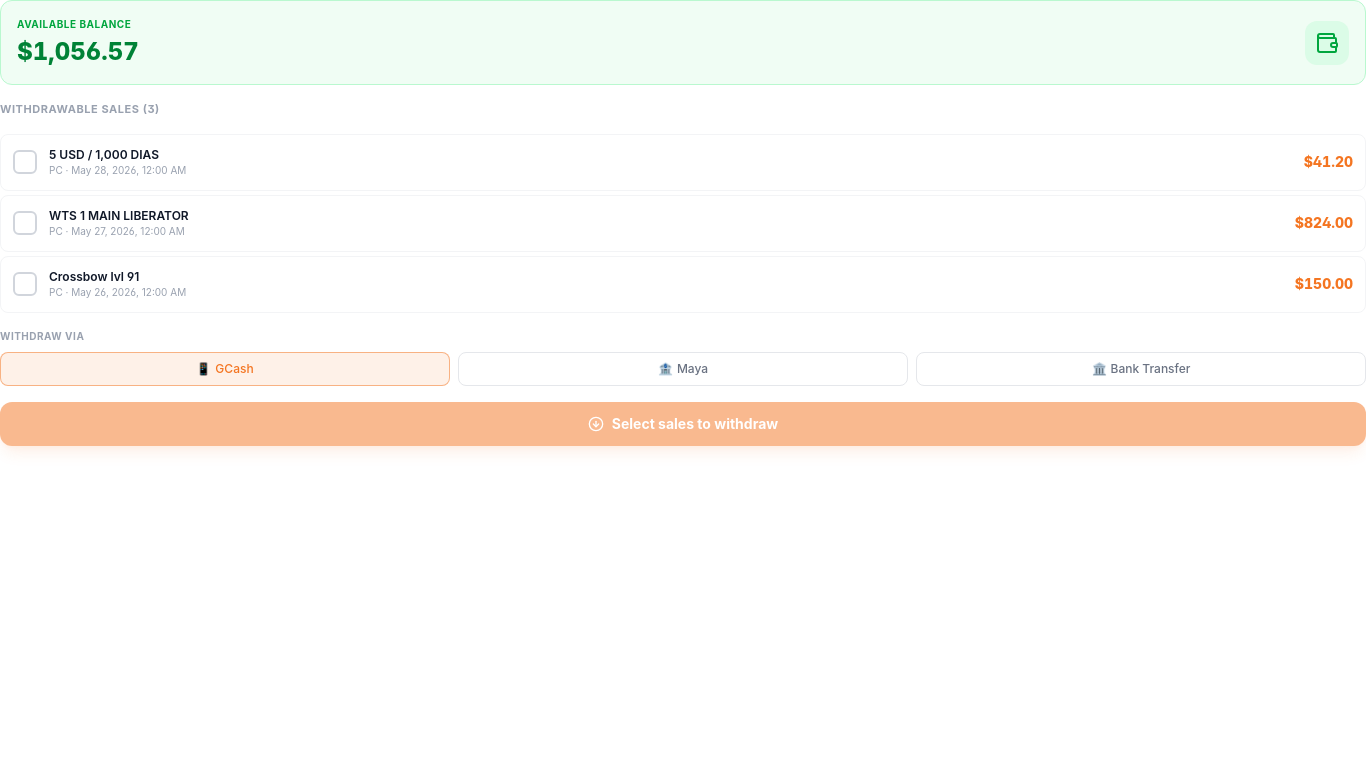
Test: WithdrawalPanel › cancel button closes confirmation modal
The image size is (1366, 768).
Click the button "5 USD / 1,000 DIAS".
click(104, 154)  # box [0,134,1365,190]
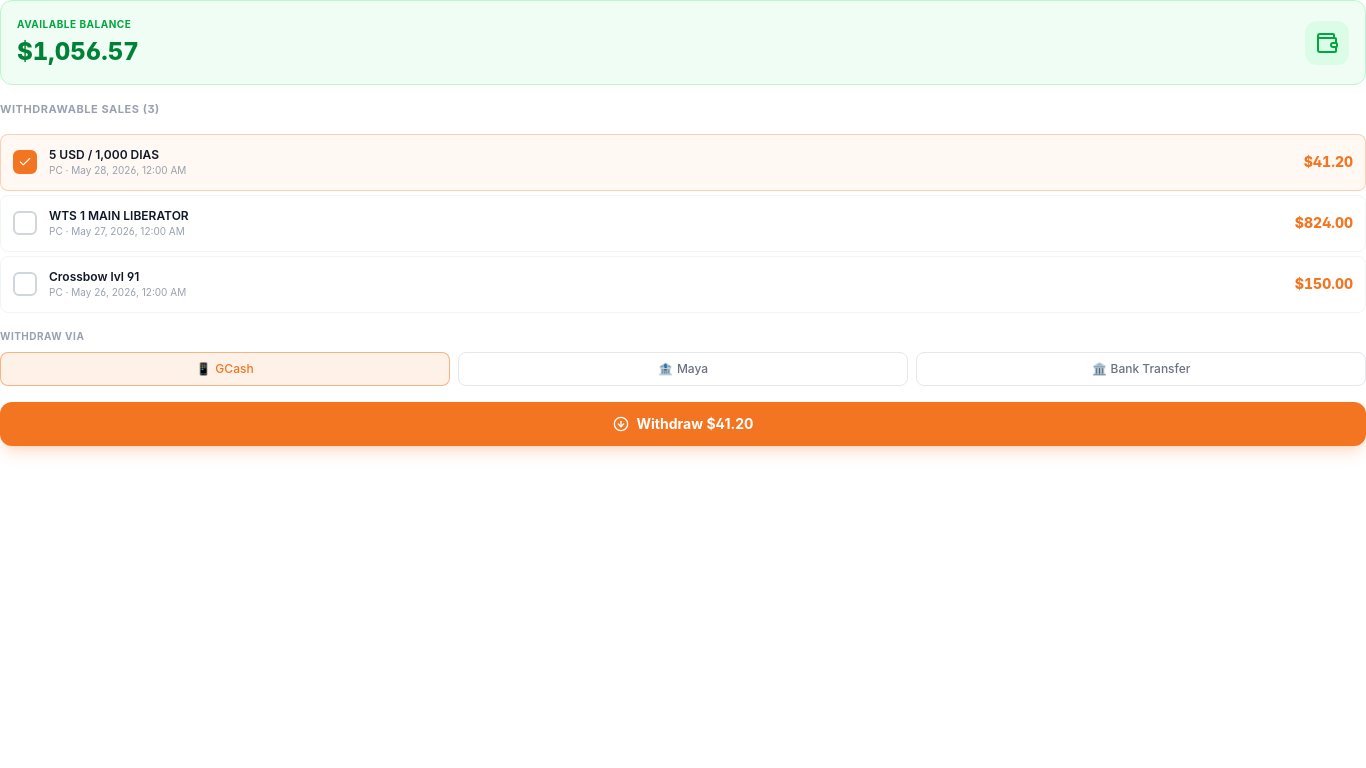
Click the button "Withdraw $41.20".
click(683, 424)  # box [0,402,1365,446]
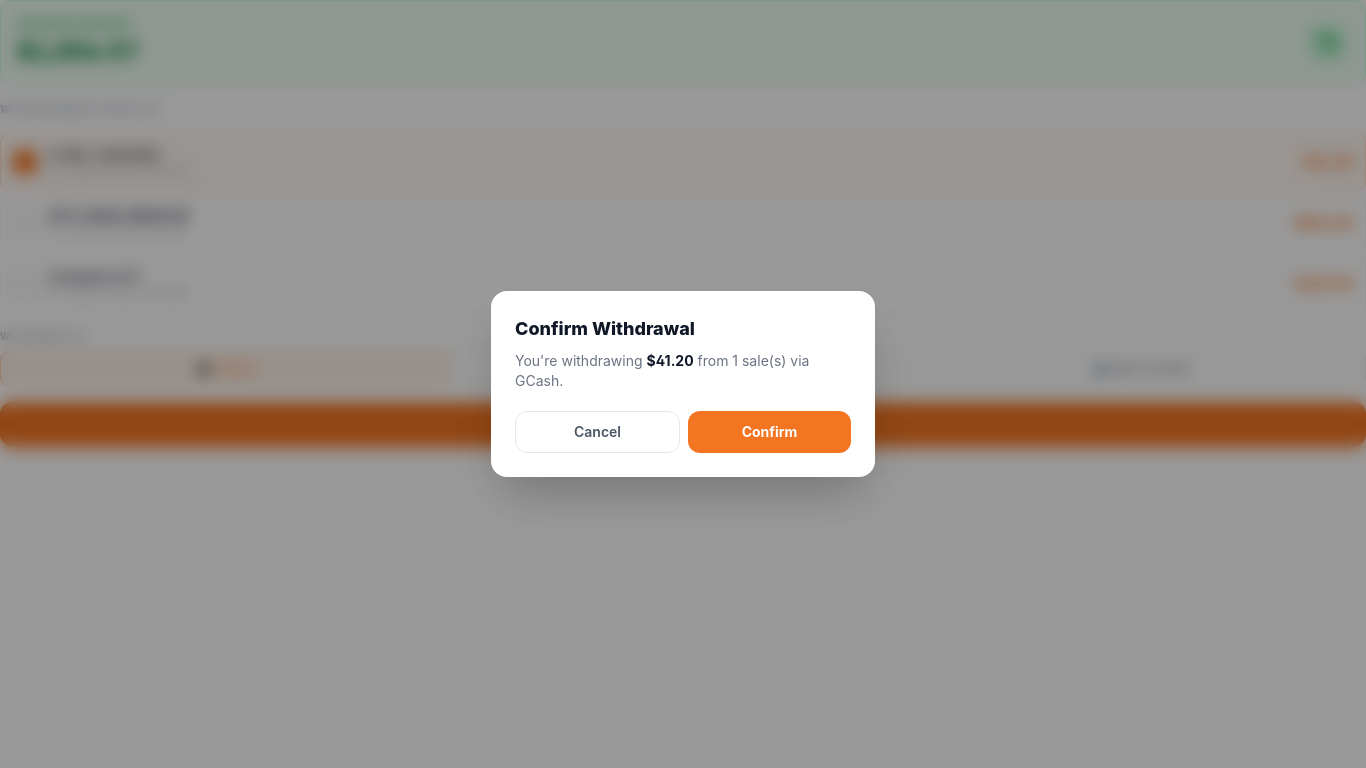
Expected: the heading "Confirm Withdrawal" is shown, [515,318,695,339]
Note: Click Cancel
Click the button "Cancel".
click(598, 432)  # box [515,411,680,453]
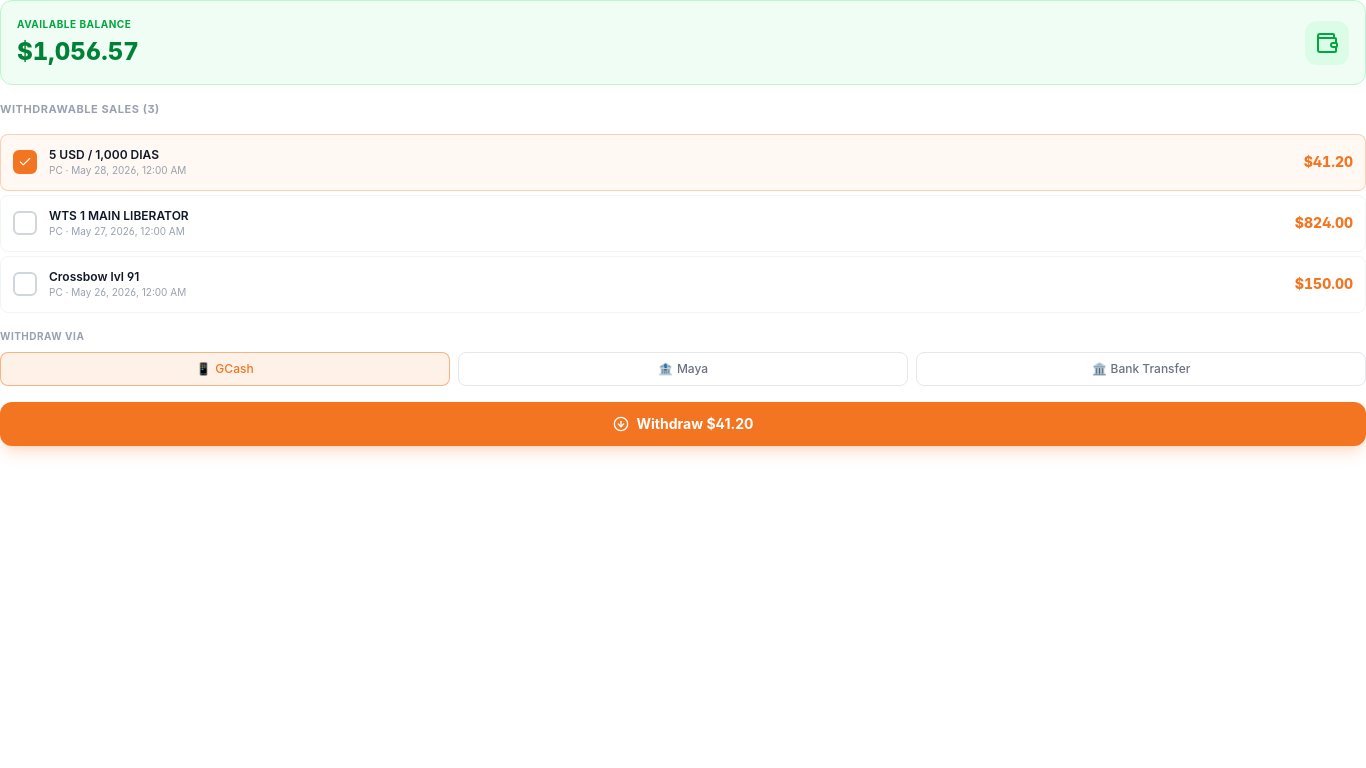
Expected: the heading "Confirm Withdrawal" is gone
